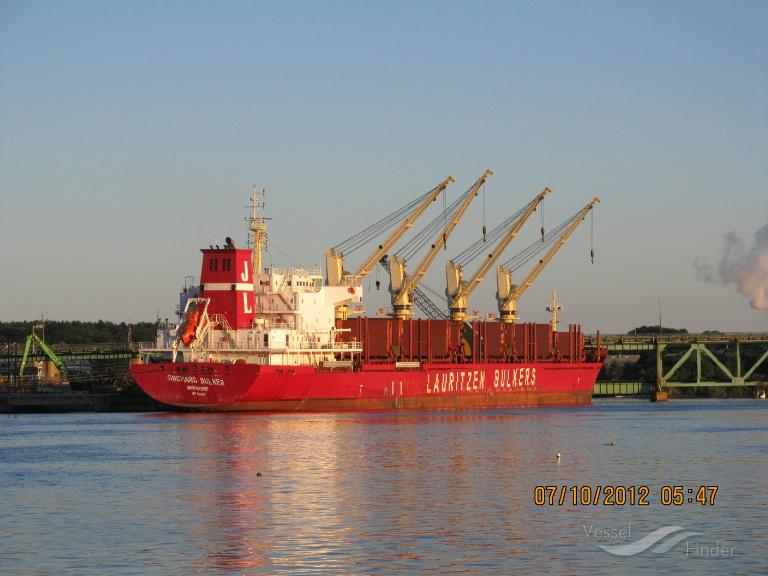OCR: (416, 368, 545, 396), (163, 368, 235, 404)
